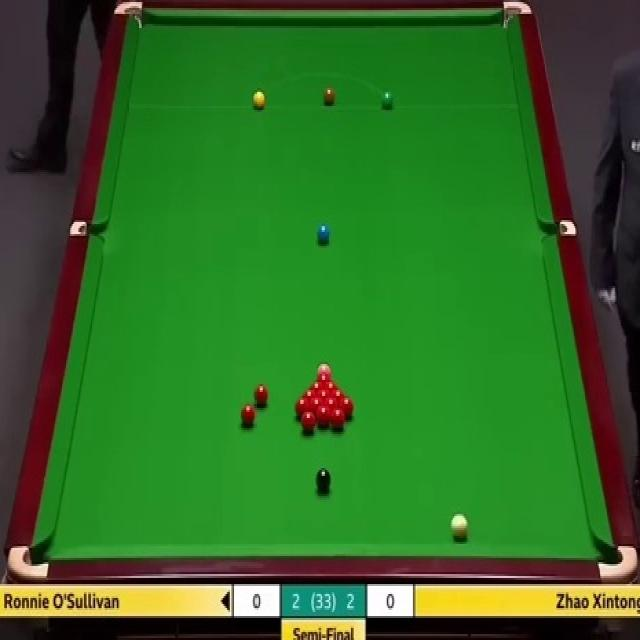black-ball: (314, 467, 330, 491)
blue-ball: (316, 225, 331, 242)
brown-ball: (324, 86, 336, 107)
green-ball: (380, 88, 395, 110)
pink-ball: (317, 364, 332, 378)
red-ball: (298, 410, 316, 433), (316, 405, 331, 427), (240, 404, 255, 426), (337, 397, 352, 418), (255, 384, 269, 406), (295, 397, 308, 419), (331, 410, 345, 430), (325, 398, 338, 419), (304, 389, 315, 401), (318, 390, 329, 402), (318, 375, 328, 387)
white-ball: (452, 512, 469, 540)
yellow-ball: (253, 90, 265, 110)
